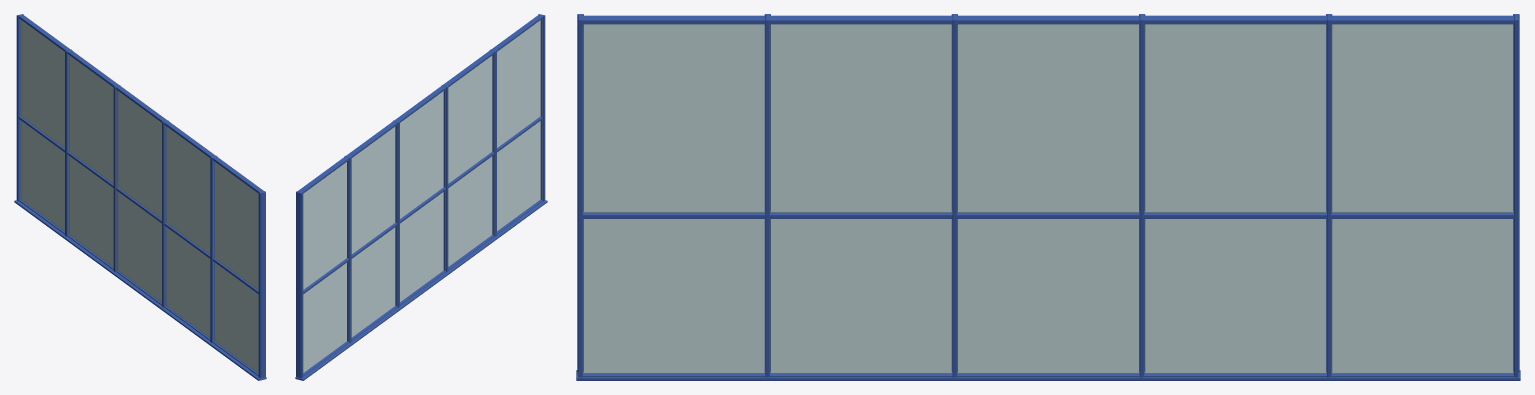
Rendered from window.glb.
3 renders of one model, left to right at view 1: azimuth 30°, elevation 25°; view 2: azimuth 150°, elevation 25°; view 3: azimuth 270°, elevation 25°, orthographic. The views are drawn at different scales.
Parts seen in each view (by area): view 1: glazing-1-upper, glazing-3-upper, glazing-0-upper, glazing-2-upper, glazing-4-upper, glazing-3-lower, glazing-1-lower, glazing-0-lower, glazing-2-lower, glazing-4-lower, transom-5.495, interior-sill (+14 smaller); view 2: glazing-1-upper, glazing-3-upper, glazing-0-upper, glazing-2-upper, glazing-4-upper, glazing-1-lower, glazing-3-lower, glazing-2-lower, glazing-4-lower, glazing-0-lower, transom-5.495, interior-sill (+14 smaller); view 3: glazing-0-upper, glazing-1-upper, glazing-2-upper, glazing-3-upper, glazing-4-upper, glazing-0-lower, glazing-1-lower, glazing-2-lower, glazing-3-lower, glazing-4-lower, transom-5.495, transom-2.51 (+8 smaller).
Boxes of the visible parts, left/top/right/bottom form: glazing-1-upper: left=69, top=56, right=113, bottom=183; glazing-3-upper: left=166, top=127, right=210, bottom=254; glazing-0-upper: left=21, top=20, right=64, bottom=147; glazing-2-upper: left=118, top=91, right=161, bottom=218; glazing-4-upper: left=215, top=162, right=258, bottom=289; glazing-3-lower: left=166, top=227, right=210, bottom=337; glazing-1-lower: left=69, top=156, right=113, bottom=266; glazing-0-lower: left=21, top=121, right=64, bottom=230; glazing-2-lower: left=118, top=192, right=161, bottom=301; glazing-4-lower: left=215, top=263, right=258, bottom=372; transom-5.495: left=19, top=15, right=263, bottom=193; interior-sill: left=14, top=200, right=266, bottom=380; glazing-1-upper: left=351, top=127, right=395, bottom=254; glazing-3-upper: left=448, top=56, right=492, bottom=183; glazing-0-upper: left=303, top=162, right=346, bottom=289; glazing-2-upper: left=400, top=91, right=443, bottom=218; glazing-4-upper: left=497, top=20, right=540, bottom=147; glazing-1-lower: left=351, top=227, right=395, bottom=337; glazing-3-lower: left=448, top=156, right=492, bottom=266; glazing-2-lower: left=400, top=192, right=443, bottom=301; glazing-4-lower: left=497, top=121, right=540, bottom=230; glazing-0-lower: left=303, top=263, right=346, bottom=372; transom-5.495: left=298, top=15, right=542, bottom=193; interior-sill: left=295, top=200, right=547, bottom=380; glazing-0-upper: left=1332, top=24, right=1512, bottom=212; glazing-1-upper: left=1145, top=24, right=1325, bottom=212; glazing-2-upper: left=958, top=24, right=1138, bottom=212; glazing-3-upper: left=771, top=24, right=951, bottom=212; glazing-4-upper: left=584, top=24, right=764, bottom=212; glazing-0-lower: left=1332, top=219, right=1512, bottom=372; glazing-1-lower: left=1145, top=219, right=1325, bottom=372; glazing-2-lower: left=958, top=219, right=1138, bottom=372; glazing-3-lower: left=771, top=219, right=951, bottom=372; glazing-4-lower: left=584, top=219, right=764, bottom=372; transom-5.495: left=582, top=15, right=1514, bottom=24; transom-2.51: left=582, top=210, right=1514, bottom=218.
Size of the model in its own units: 0.26 by 5.54 by 13.12.
